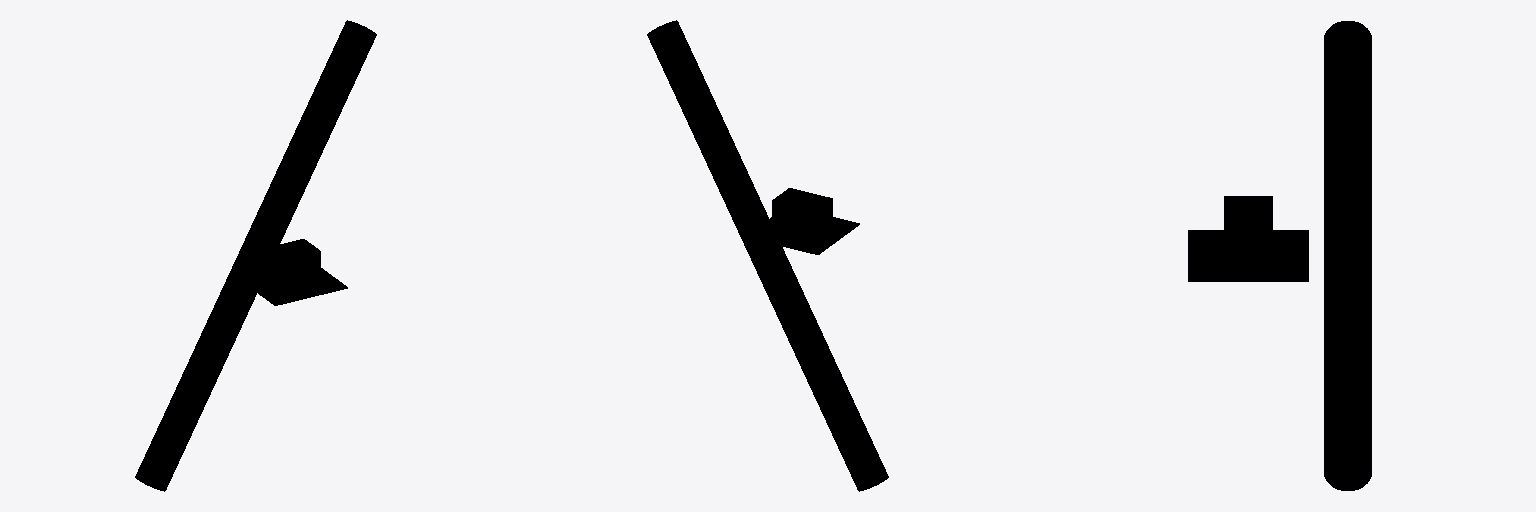
URDF robot description (arm):
<?xml version="1.0"?>
<robot name="arm">

  <material name="black">
    <color rgba="0 0 0 1"/>
  </material>
  <material name="light_grey">
    <color rgba="0 0 0 0.25"/>
  </material>
  <material name="grey">
    <color rgba="0 0 0 0.5"/>
  </material>
  <material name="dark_grey">
    <color rgba="0 0 0 0.75"/>
  </material>
  <material name="white">
    <color rgba="1 1 1 1"/>
  </material>


  <link name="base_plate">
    <visual>
      <geometry>
        <box size="0.1 0.1 0.001"/>
      </geometry>
      <origin rpy="0 0 0" xyz="0 0 0"/>
      <material name="dark_grey"/>
    </visual>
    <collision>
      <geometry>
        <box size="0.1 0.1 0.001"/>
      </geometry>
    </collision>
    <inertia>
      <mass value="0.1"/>
      <inertia ixx="0.0000420833" ixy="0" ixz="0" iyy="0.00008333" iyz="0" izz="0.0000420833" />
    </inertia>
  </link>

  <link name="actuator3">
    <visual>
      <geometry>
        <box size="0.06 0.041 0.04"/>
      </geometry>
      <origin rpy="0 0 0" xyz="0 0 0.0205"/>
      <material name="black"/>
    </visual>
    <collision>
      <geometry>
        <box size="0.06 0.041 0.04"/>
      </geometry>
    </collision>
    <inertia>
      <mass value="0.1"/>
      <inertia ixx="0.00003691125" ixy="0" ixz="0" iyy="0.00005986125" iyz="0" izz="0.0000607725" />
    </inertia>
  </link>

  <joint name="baseplate_to_actuator3" type="fixed">
    <parent link="base_plate"/>
    <child link="actuator3"/>
    <origin xyz="0 0 0"/>
  </joint>

  <link name="arm2">
    <visual>
      <geometry>
        <cylinder length="0.6" radius="0.02"/>
      </geometry>
      <origin rpy="0 0.5 0" xyz="0 0.041 0"/>
      <material name="light_grey"/>
    </visual>
    <collision>
      <geometry>
        <cylinder length="0.6" radius="0.02"/>
      </geometry>
    </collision>
    <inertia>
      <mass value="0.01"/>
      <inertia ixx="0.0012" ixy="0" ixz="0" iyy="0" iyz="0" izz="0.0012" />
    </inertia>
  </link>

  <joint name="actuator_to_tube" type="continuous">
    <axis rpy="0 0 0" xyz="0 1 0"/>
    <parent link="actuator3"/>
    <child link="arm2"/>
    <origin xyz="0 0.041 0"/>
  </joint>

</robot>

--- Render facts (derived) ---
Views: 3 orthographic renders of the robot side by side, from view 1: azimuth 30°, elevation 25°; view 2: azimuth 150°, elevation 25°; view 3: azimuth 270°, elevation 25°.
Model arm with 3 links and 2 joints (1 continuous, 1 fixed), rooted at base_plate, posed all joints at 0.
Links seen in each view (by area): view 1: arm2, actuator3, base_plate; view 2: arm2, actuator3, base_plate; view 3: arm2, base_plate, actuator3.
Boxes of the visible links, left/top/right/bottom form: arm2: left=135, top=20, right=376, bottom=491; actuator3: left=260, top=239, right=320, bottom=292; base_plate: left=233, top=268, right=347, bottom=305; arm2: left=647, top=20, right=888, bottom=491; actuator3: left=772, top=188, right=832, bottom=241; base_plate: left=770, top=217, right=859, bottom=254; arm2: left=1324, top=21, right=1371, bottom=490; base_plate: left=1188, top=230, right=1308, bottom=281; actuator3: left=1224, top=196, right=1272, bottom=270.
Size in the robot's own frame: 0.3228 by 0.152 by 0.5457 metres.
Geometry: primitives only (box / cylinder / sphere), no mesh files.
